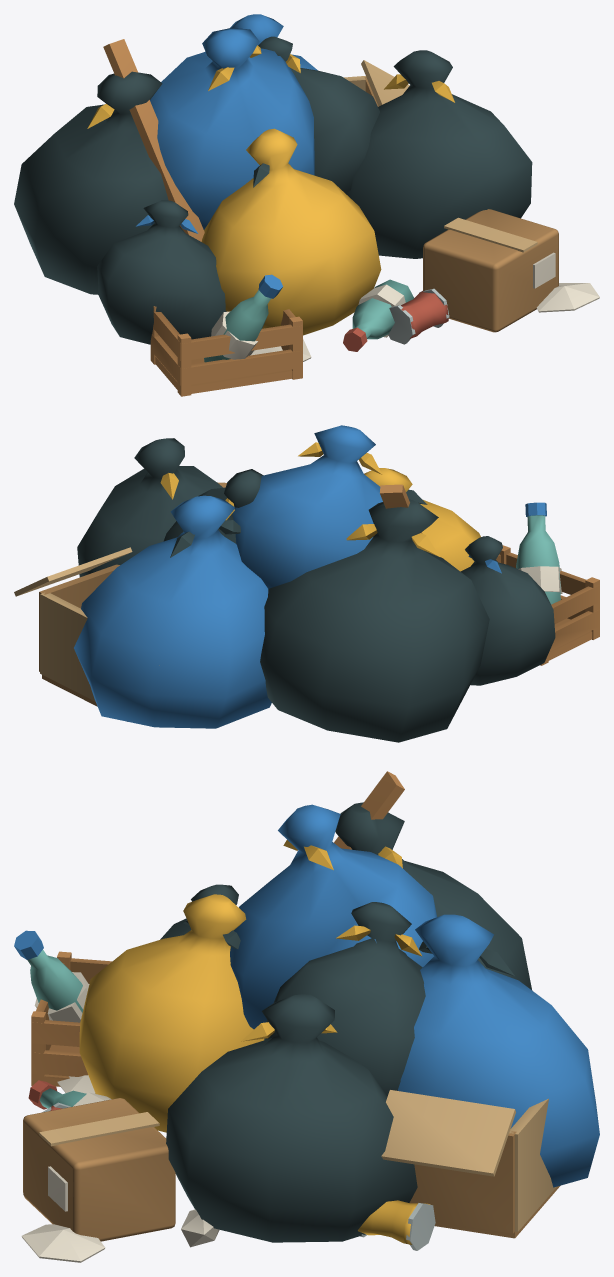
File: waste-pile-low.glb
The picture shows the model from 3 angles, top to bottom: view 1: azimuth 30°, elevation 25°; view 2: azimuth 150°, elevation 25°; view 3: azimuth 270°, elevation 25°; orthographic projection. The views are drawn at different scales.
Parts seen in each view (by area): view 1: tied refuse sack, sack tie, tied refuse sack.001, taped carton, crate floor, carton label, discarded bottle, parcel tape, crumpled drink can, aluminium can end; view 2: tied refuse sack, tied refuse sack.001, parcel tape, sack tie, crate floor, discarded bottle, taped carton, carton label; view 3: tied refuse sack, tied refuse sack.001, sack tie, taped carton, parcel tape, crate floor, carton label, discarded bottle, aluminium can end.
Part boxes in pixels (<box>): tied refuse sack: <box>14,36,532,344</box>; sack tie: <box>87,45,454,335</box>; tied refuse sack.001: <box>136,14,317,298</box>; taped carton: <box>364,77,558,332</box>; crate floor: <box>103,39,302,396</box>; carton label: <box>211,252,599,361</box>; discarded bottle: <box>204,279,413,362</box>; parcel tape: <box>343,60,537,252</box>; crumpled drink can: <box>343,290,448,351</box>; aluminium can end: <box>388,288,449,344</box>; tied refuse sack: <box>77,438,555,742</box>; tied refuse sack.001: <box>74,425,546,728</box>; parcel tape: <box>14,547,159,701</box>; sack tie: <box>160,442,480,571</box>; crate floor: <box>380,484,599,665</box>; discarded bottle: <box>516,515,560,604</box>; taped carton: <box>39,482,226,721</box>; carton label: <box>518,566,562,593</box>; tied refuse sack: <box>160,802,532,1242</box>; tied refuse sack.001: <box>14,804,599,1187</box>; sack tie: <box>79,840,430,1244</box>; taped carton: <box>23,1098,560,1241</box>; parcel tape: <box>39,1090,556,1231</box>; crate floor: <box>31,771,404,1086</box>; carton label: <box>21,972,219,1262</box>; discarded bottle: <box>27,950,86,1108</box>; aluminium can end: <box>42,1102,435,1250</box>.
Bounding box in the file's own units: 1.18 × 0.6691 × 1.14.
